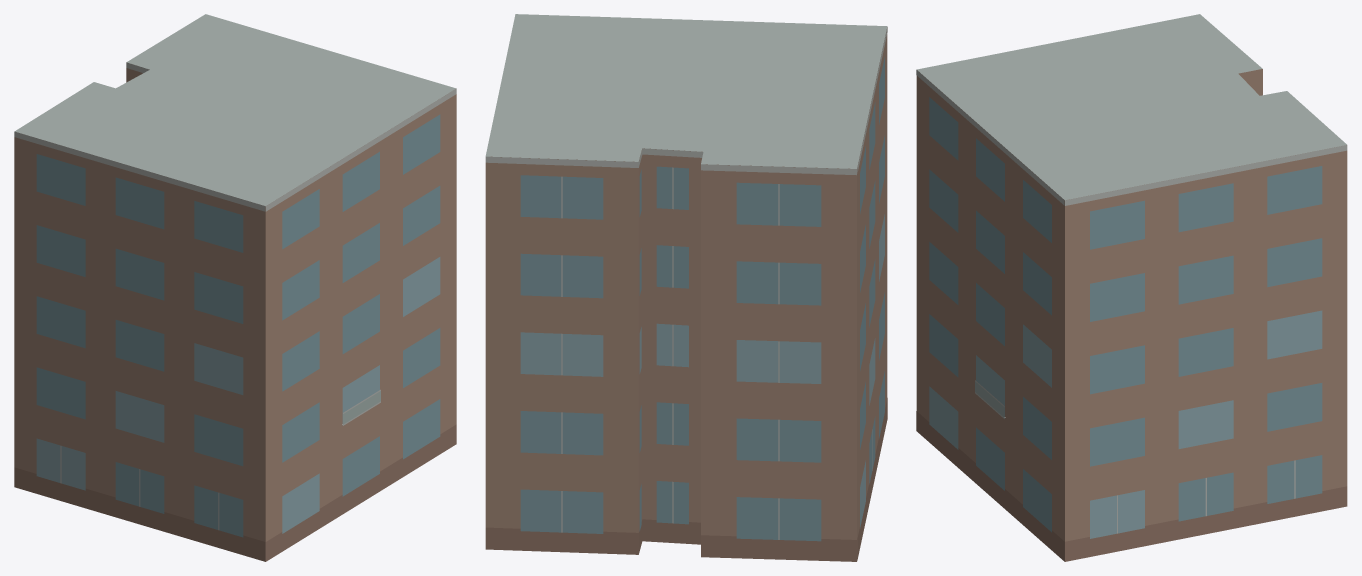
The model's file is survey-upis-32726671.glb.
3 renders of one model, left to right at view 1: azimuth 30°, elevation 25°; view 2: azimuth 150°, elevation 25°; view 3: azimuth 270°, elevation 25°, orthographic. The views are drawn at different scales.
Parts seen in each view (by area): view 1: survey-upis-32726671.tmp; view 2: survey-upis-32726671.tmp; view 3: survey-upis-32726671.tmp.
Boxes of the visible parts, <box> form: survey-upis-32726671.tmp: <box>14,14,456,561</box>; survey-upis-32726671.tmp: <box>485,14,887,561</box>; survey-upis-32726671.tmp: <box>916,14,1347,561</box>.
Bounding box in the file's own units: 17.14 × 15.5 × 16.75.
